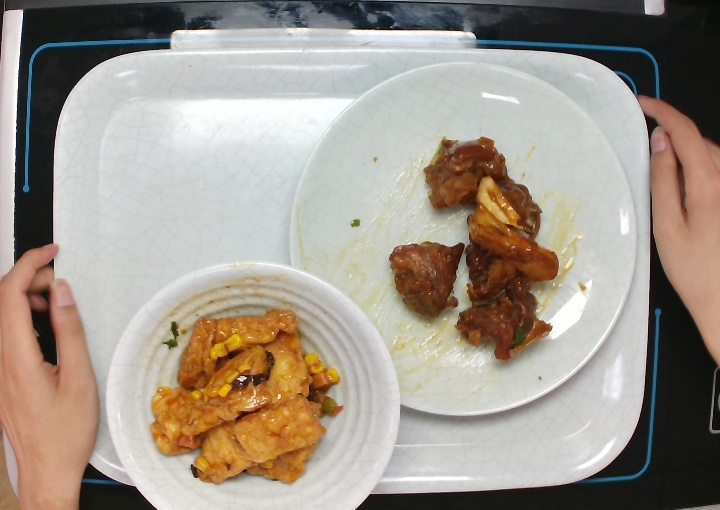JYsf-Da_Yuan_Pan: (279, 57, 646, 426)
JYsf-Xiao_Tang_Wan: (100, 250, 407, 510)
